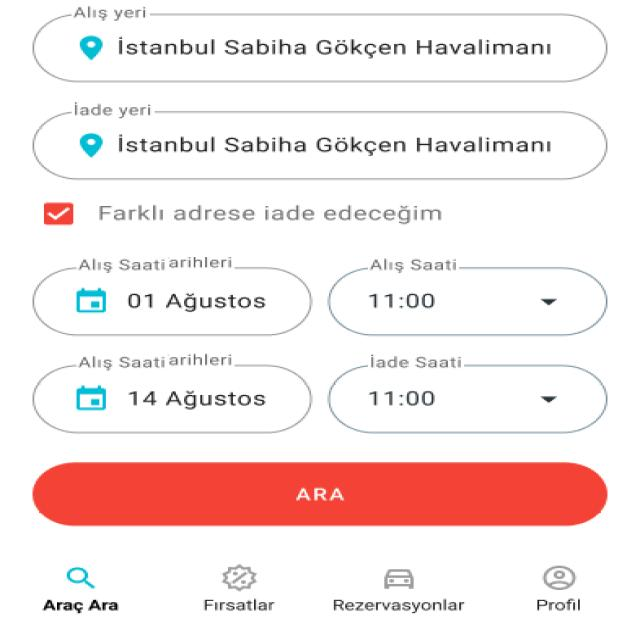QLabel: (329, 597, 469, 616), (33, 596, 127, 614), (196, 596, 281, 614), (291, 486, 347, 506), (525, 597, 588, 614)
VBottomNavigation: (0, 548, 640, 640)
VBtn: (33, 461, 608, 528), (325, 558, 472, 622), (28, 559, 141, 624), (190, 556, 286, 620), (520, 559, 594, 620)
VCheckbox: (36, 196, 445, 234)
VCombobox: (326, 353, 610, 434), (326, 258, 608, 337)
VIcon: (374, 564, 425, 592), (217, 562, 263, 593), (55, 564, 105, 592), (538, 564, 581, 592)
VTextField: (32, 102, 608, 182), (32, 6, 608, 84), (32, 352, 314, 435), (32, 255, 312, 336)
